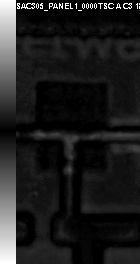led: (36, 81, 108, 172)
